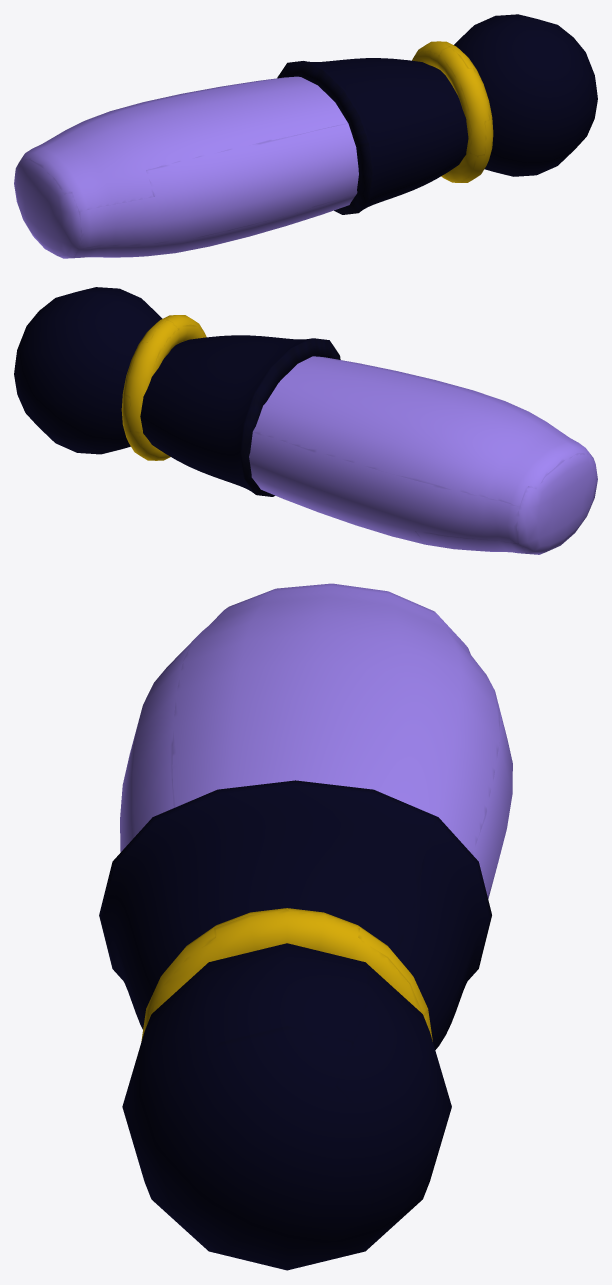
The model's file is StarPlatinumArm.fbx.
The picture shows the model from 3 angles, top to bottom: view 1: azimuth 30°, elevation 25°; view 2: azimuth 150°, elevation 25°; view 3: azimuth 270°, elevation 25°; orthographic projection. The views are drawn at different scales.
Parts seen in each view (by area): view 1: LHand.001; view 2: LHand.001; view 3: LHand.001.
Boxes of the visible parts, x1=… form: LHand.001: x1=14, y1=14, x2=597, y2=258; LHand.001: x1=14, y1=287, x2=597, y2=554; LHand.001: x1=99, y1=583, x2=512, y2=1270.
Bounding box in the file's own units: 38.34 × 10.13 × 12.72.
